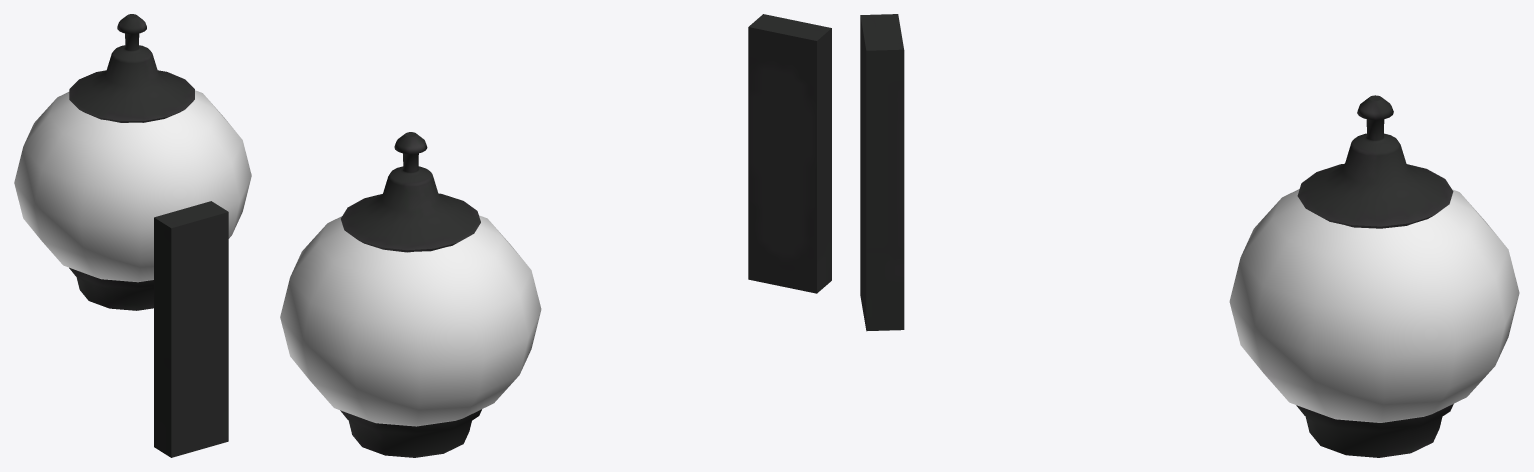
The model's file is SphereLightBase.fbx.
3 renders of one model, left to right at view 1: azimuth 30°, elevation 25°; view 2: azimuth 150°, elevation 25°; view 3: azimuth 270°, elevation 25°, orthographic. The views are drawn at different scales.
Parts seen in each view (by area): view 1: sphereLight10, sphereLightBase1, sphereLight9, sphereLight8; view 2: sphereLight10, sphereLightBase1, sphereLight9, sphereLight8; view 3: sphereLight10, sphereLightBase1, sphereLight9, sphereLight8.
Boxes of the visible parts, x1,y1,x2,y2 form: sphereLight10: (14,90,251,282); sphereLightBase1: (154,201,228,457); sphereLight9: (69,14,194,122); sphereLight8: (69,267,153,310); sphereLight10: (280,215,541,426); sphereLightBase1: (748,14,831,293); sphereLight9: (341,132,480,252); sphereLight8: (340,409,481,457); sphereLight10: (1229,189,1519,422); sphereLightBase1: (860,14,904,331); sphereLight9: (1297,95,1453,228); sphereLight8: (1296,404,1453,457).
Size of the model in its own units: 2.01 by 1.89 by 3.39.
